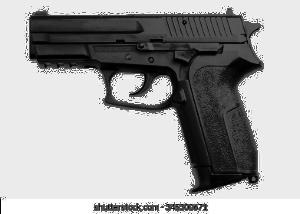handgun: (24, 10, 270, 186)
